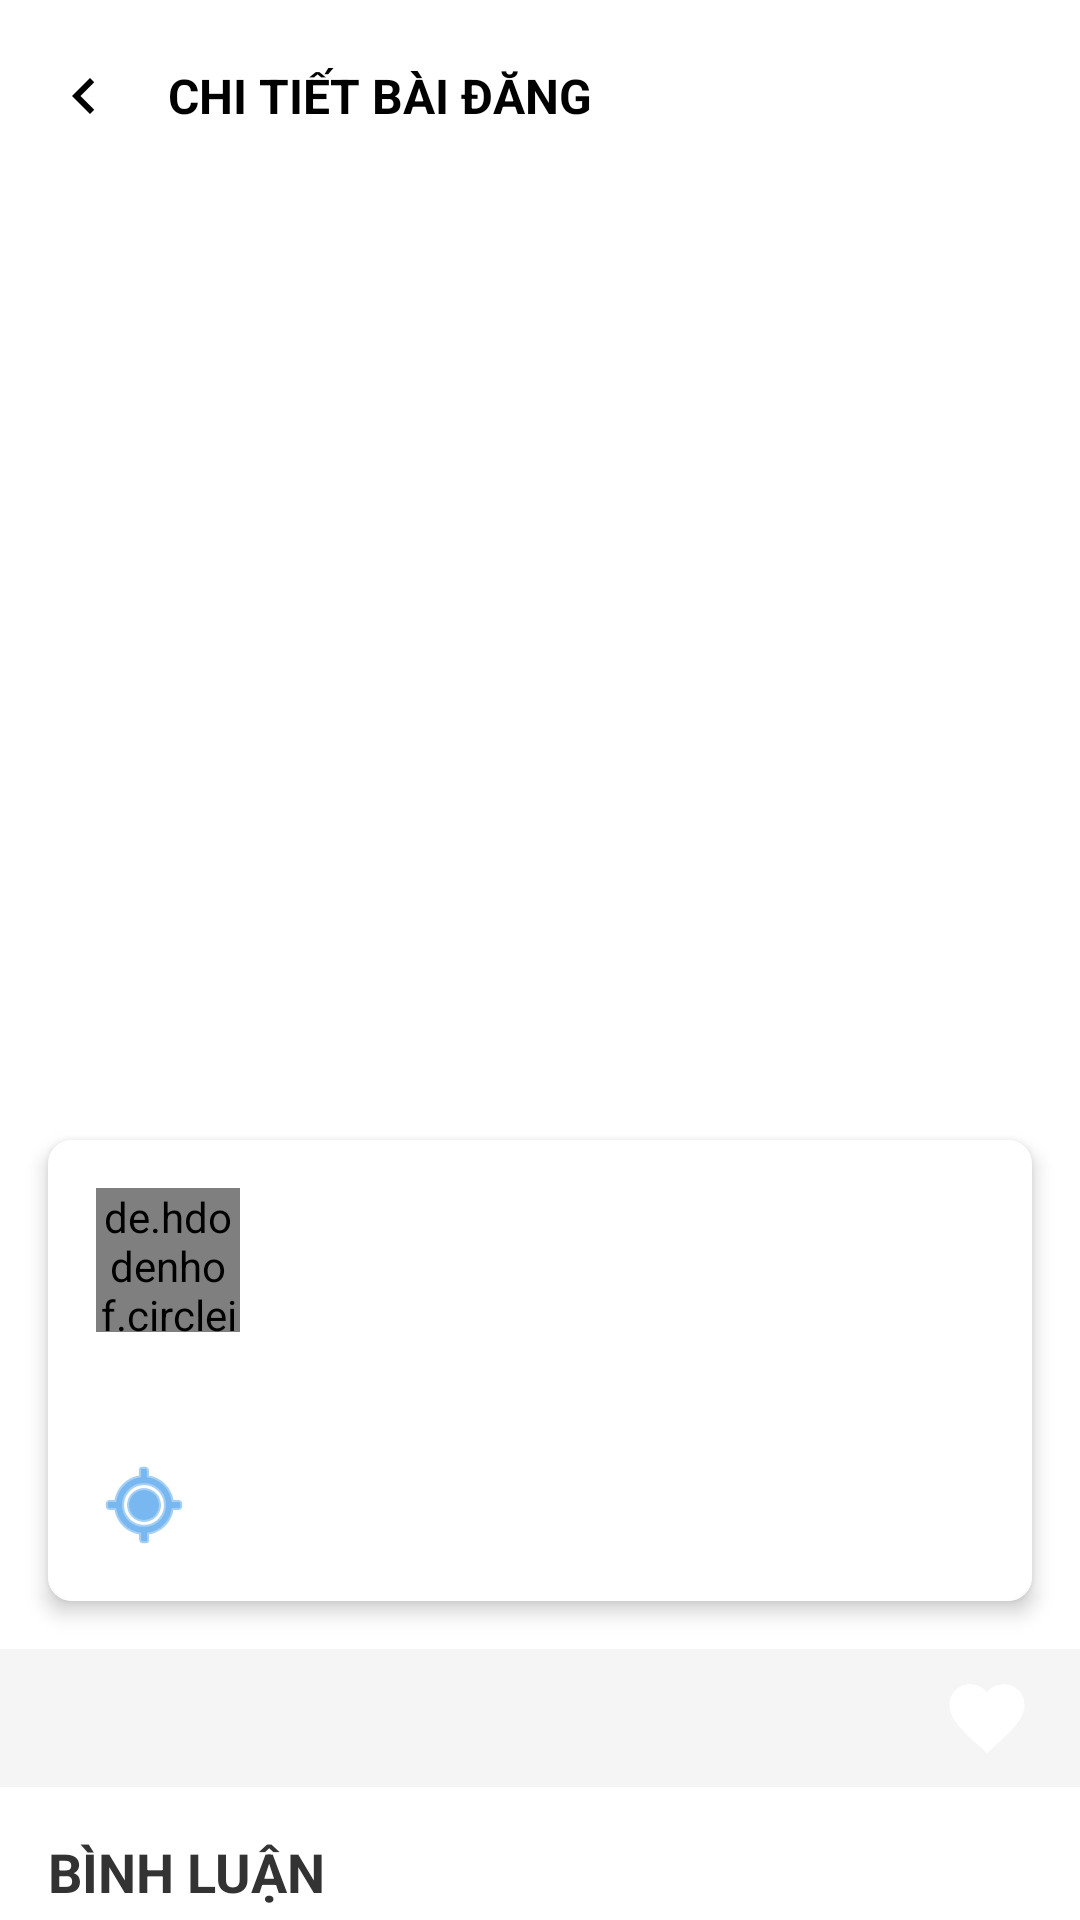

Screen size 1080x1920. Icon name, then its center in pixels as [x,y]:
Quay lại: [83,96]
